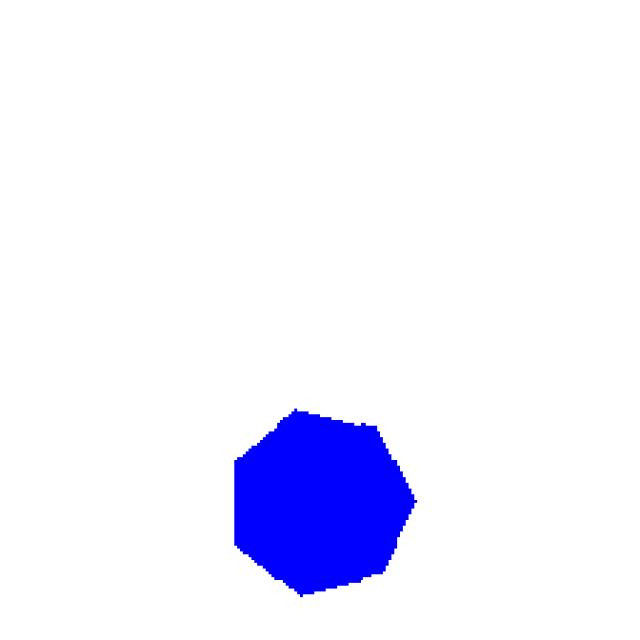Heptagon: (190, 376, 469, 621)
